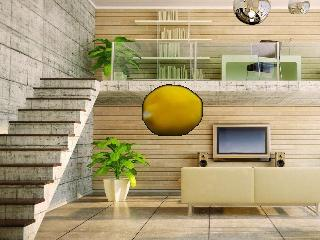lemon: (144, 86, 202, 136)
